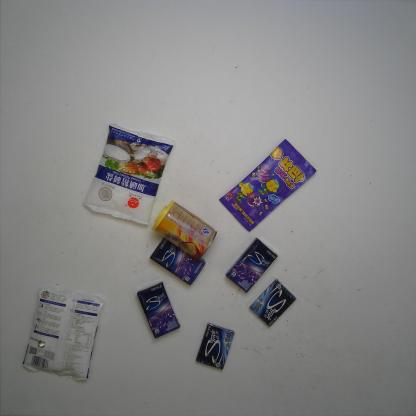Candy: (216, 137, 318, 235)
Canned Food: (150, 196, 222, 261)
Gum: (223, 235, 280, 294), (146, 232, 208, 286), (246, 276, 298, 328), (136, 279, 181, 339), (195, 320, 235, 372)
Seasoner: (84, 120, 176, 231), (18, 281, 109, 385)
